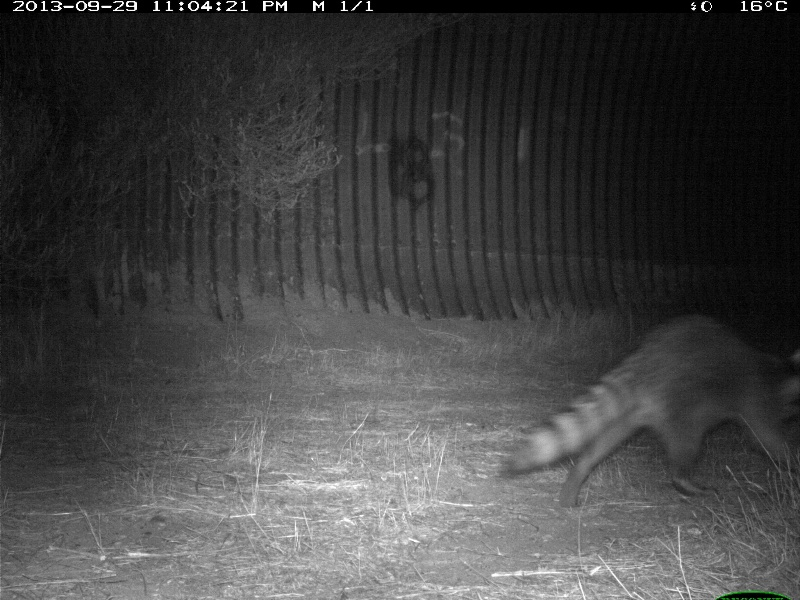raccoon: (500, 312, 797, 513)
